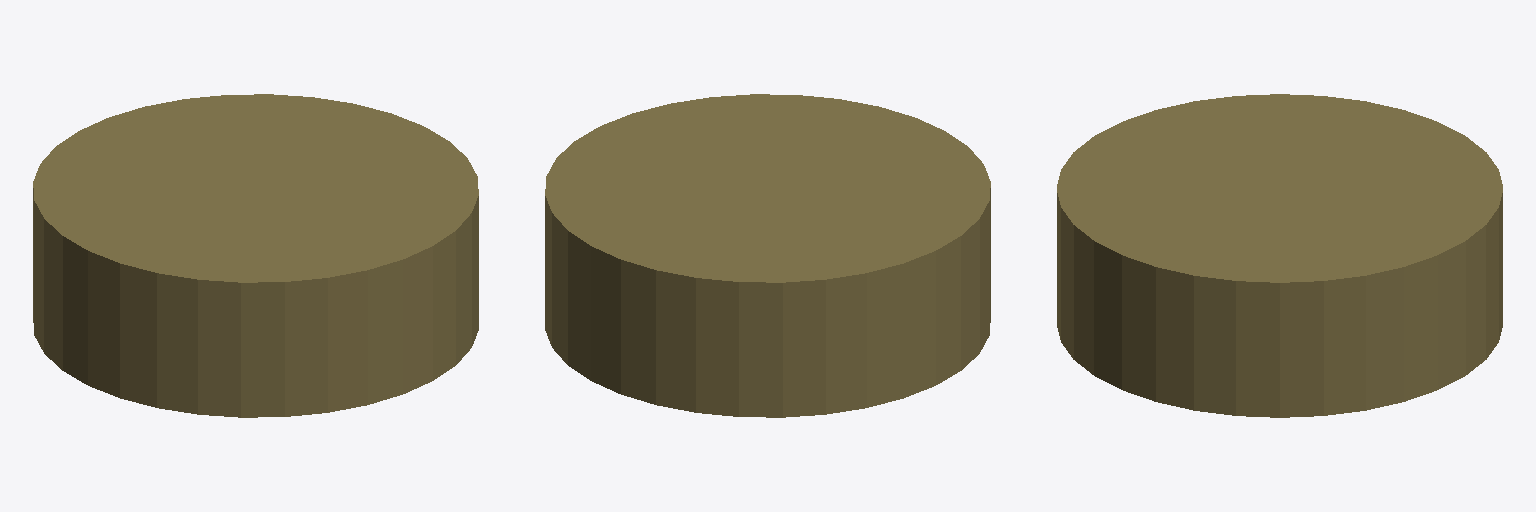
The model's file is kaas.obj.
The picture shows the model from 3 angles: view 1: azimuth 30°, elevation 25°; view 2: azimuth 150°, elevation 25°; view 3: azimuth 270°, elevation 25°; orthographic projection.
Visible parts, largest first — view 1: Cylinder; view 2: Cylinder; view 3: Cylinder.
Boxes of the visible parts, box(x1,y1,x2,y2) form: Cylinder: box(33, 94, 478, 417); Cylinder: box(545, 94, 990, 417); Cylinder: box(1057, 94, 1502, 417).
Bounding box in the file's own units: 1.8 × 0.6 × 1.8.